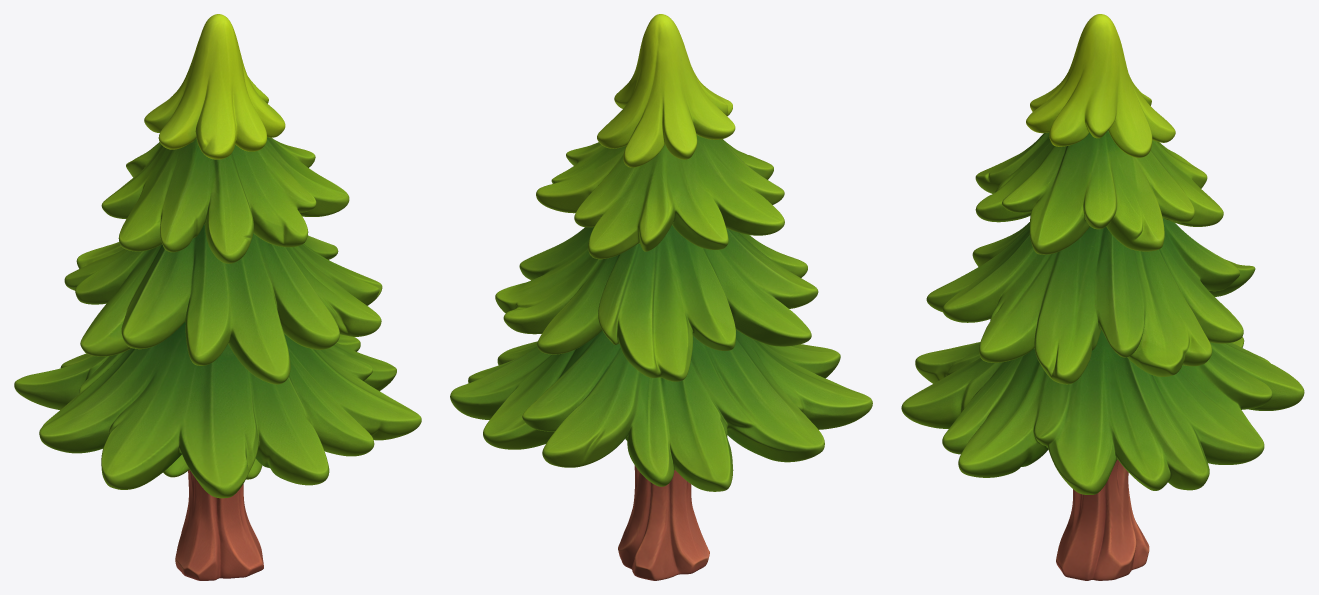
File: pine-sapling-01.glb
The picture shows the model from 3 angles, left to right: view 1: azimuth 30°, elevation 25°; view 2: azimuth 150°, elevation 25°; view 3: azimuth 270°, elevation 25°; orthographic projection.
Size of the model in its own units: 1.23 by 1.9 by 1.27.
Materials: 1 (1 with a texture image).
